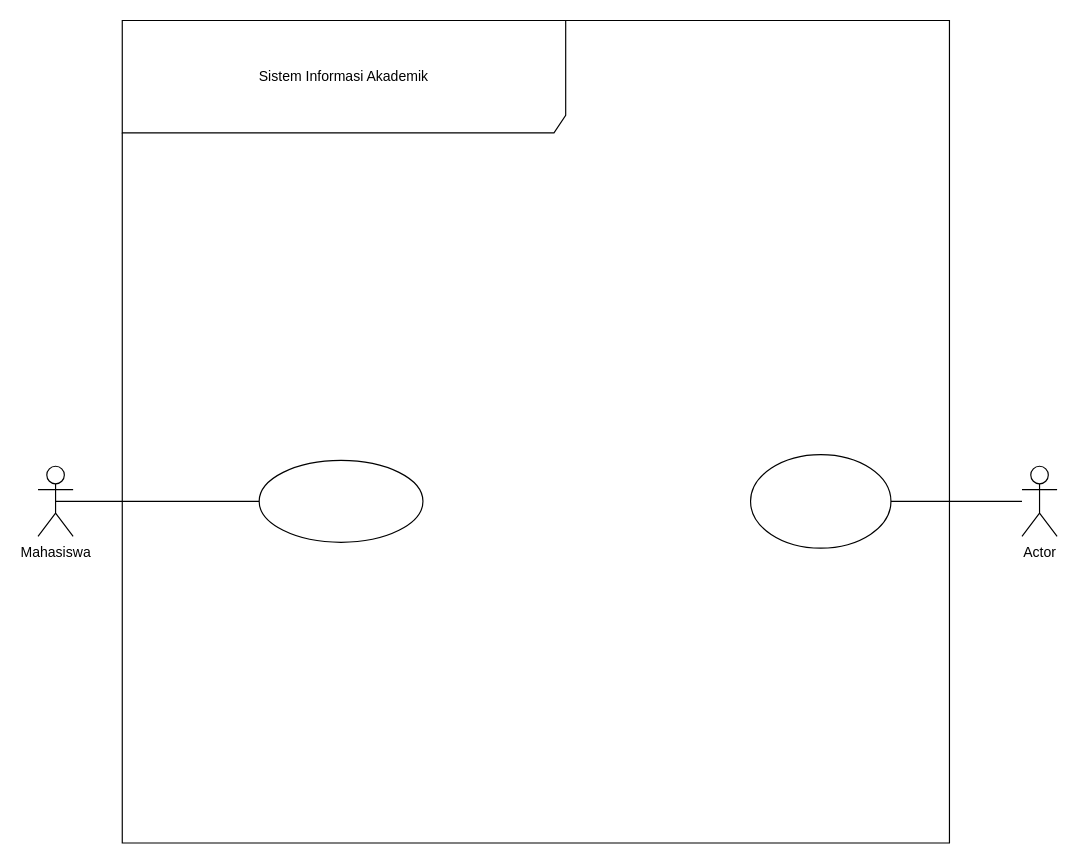
Some shapes in this 1078 by 863 pixel diagram are drawn without their labels. The shapes that lost their labels are listed below. From the top down, each one's centre as x and y in pixels, then its label:
At point (340, 500): "Lihat Jadwal Kuliah".
At point (820, 500): "Kelola jadwal kuliah".
